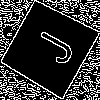J: (24, 23, 77, 68)
